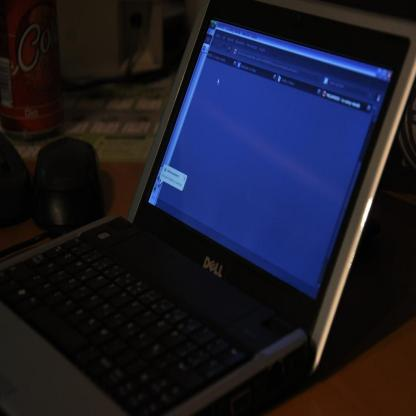board: (0, 0, 416, 416), (0, 0, 62, 136)
